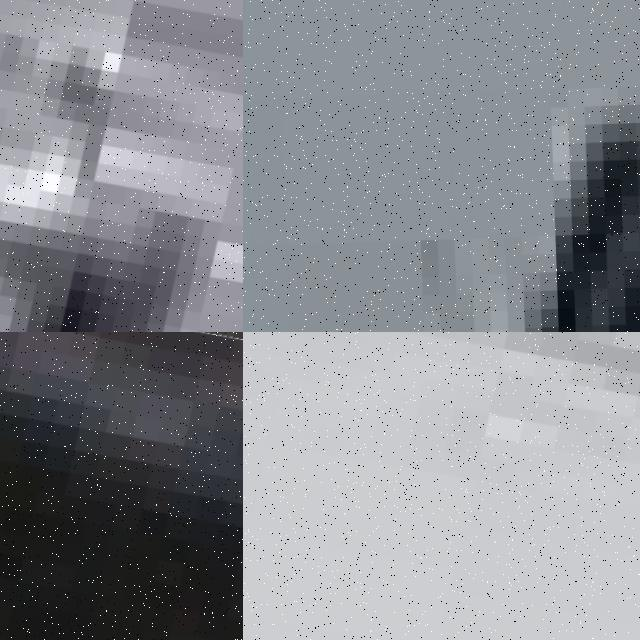drone: (243, 332, 640, 640), (0, 0, 243, 332), (0, 332, 243, 640)
